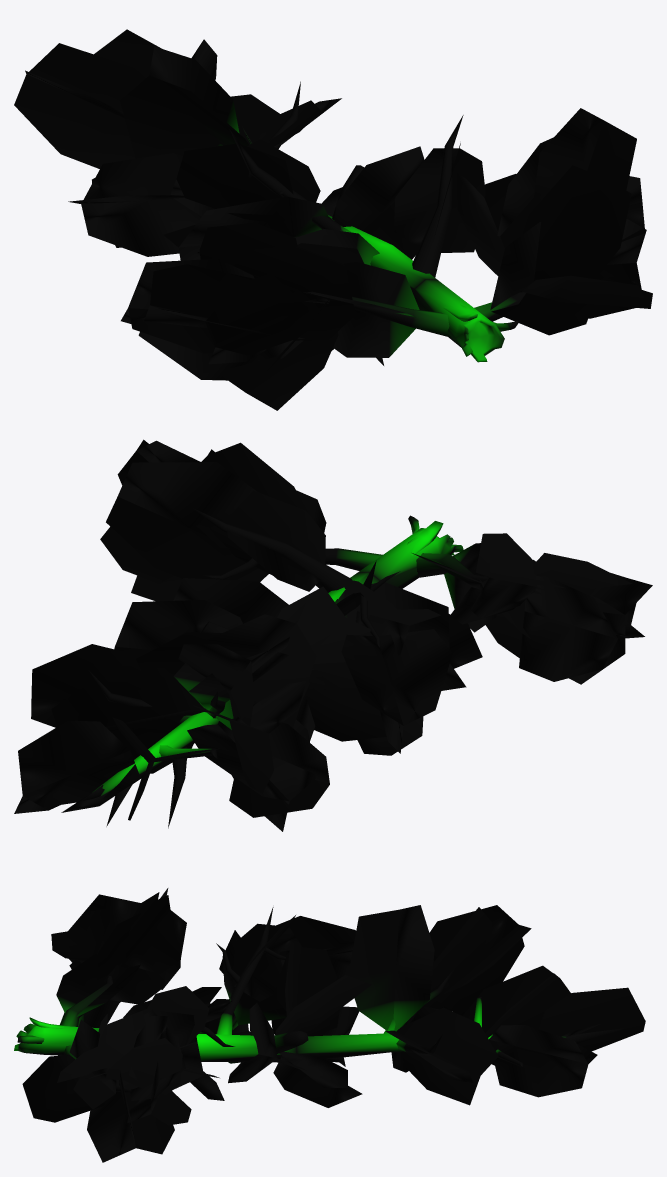
File: SM_FirFallen3.FBX
3 views of the same model, one above another, from view 1: azimuth 30°, elevation 25°; view 2: azimuth 150°, elevation 25°; view 3: azimuth 270°, elevation 25° (orthographic). The views are drawn at different scales.
Parts seen in each view (by area): view 1: SM_FirFallen3; view 2: SM_FirFallen3; view 3: SM_FirFallen3.
Part boxes in pixels (x1,y1,x2,y2): SM_FirFallen3: [14, 29, 652, 410]; SM_FirFallen3: [14, 439, 652, 831]; SM_FirFallen3: [14, 888, 645, 1162].
Bounding box in the file's own units: 1210 × 1619 × 534.
